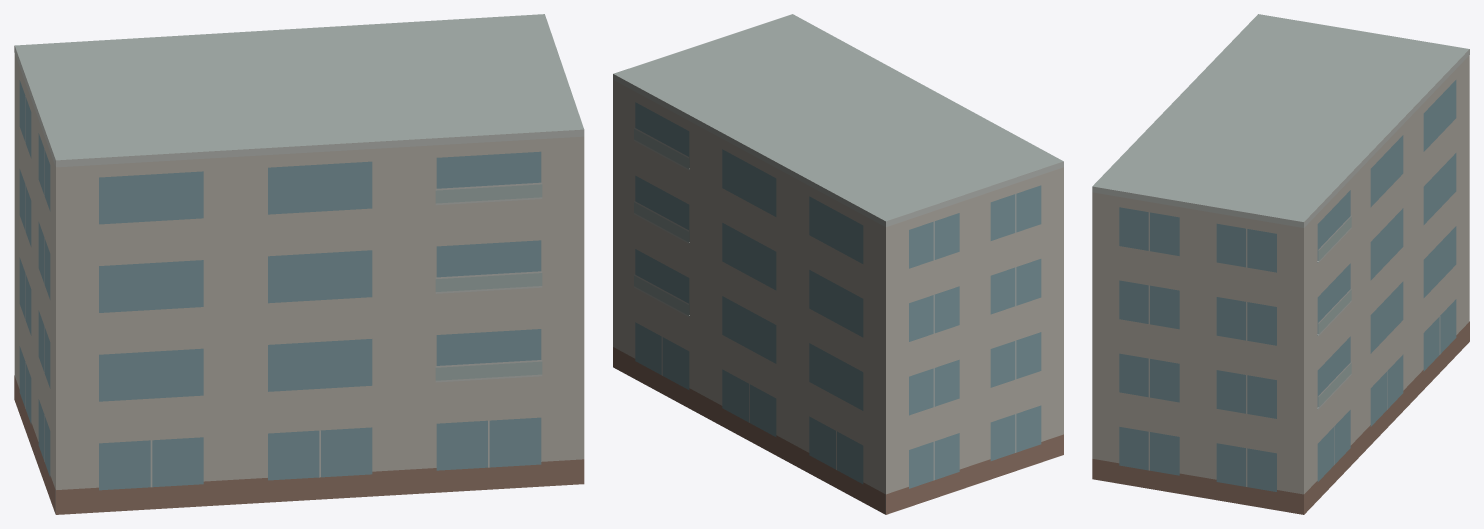
The model's file is survey-upis-32847901.glb.
The picture shows the model from 3 angles, left to right: view 1: azimuth 30°, elevation 25°; view 2: azimuth 150°, elevation 25°; view 3: azimuth 270°, elevation 25°; orthographic projection. The views are drawn at different scales.
Parts seen in each view (by area): view 1: survey-upis-32847901.tmp; view 2: survey-upis-32847901.tmp; view 3: survey-upis-32847901.tmp.
Boxes of the visible parts, left/top/right/bottom form: survey-upis-32847901.tmp: left=14, top=14, right=584, bottom=514; survey-upis-32847901.tmp: left=613, top=14, right=1063, bottom=514; survey-upis-32847901.tmp: left=1092, top=14, right=1469, bottom=514.
Bounding box in the file's own units: 18.62 × 12.2 × 14.27.
